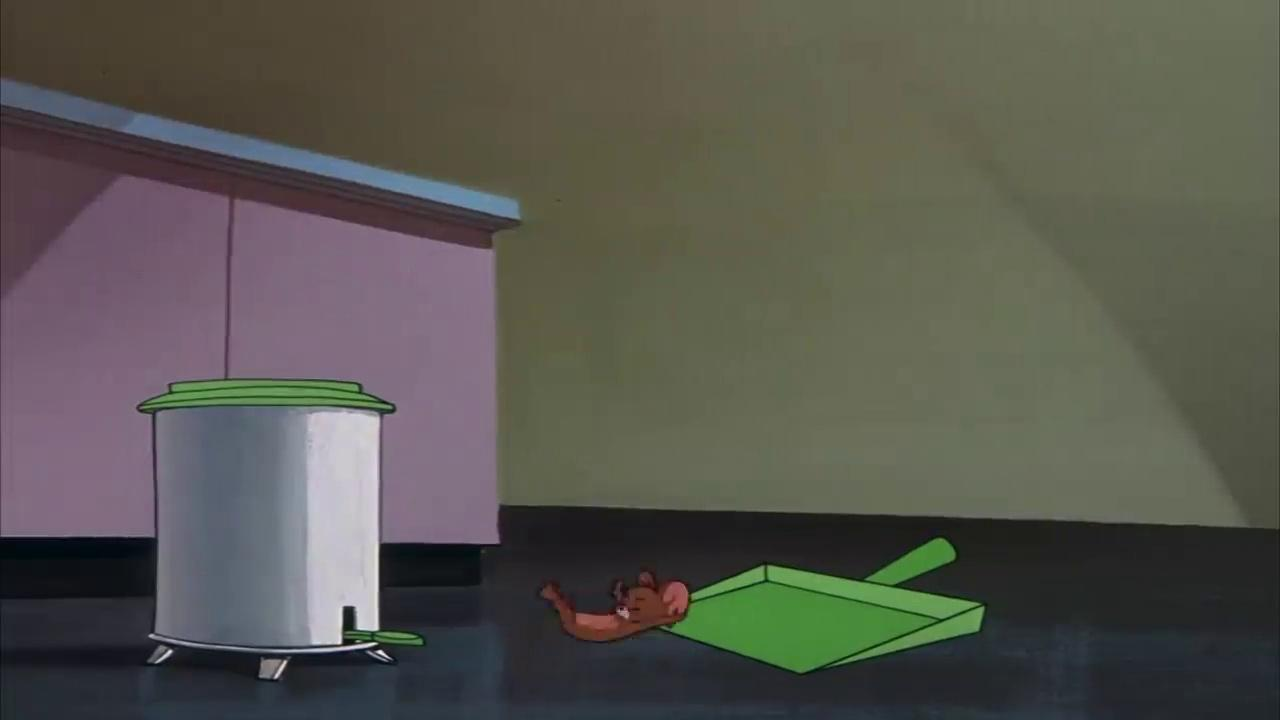Jerry: (536, 568, 693, 643)
